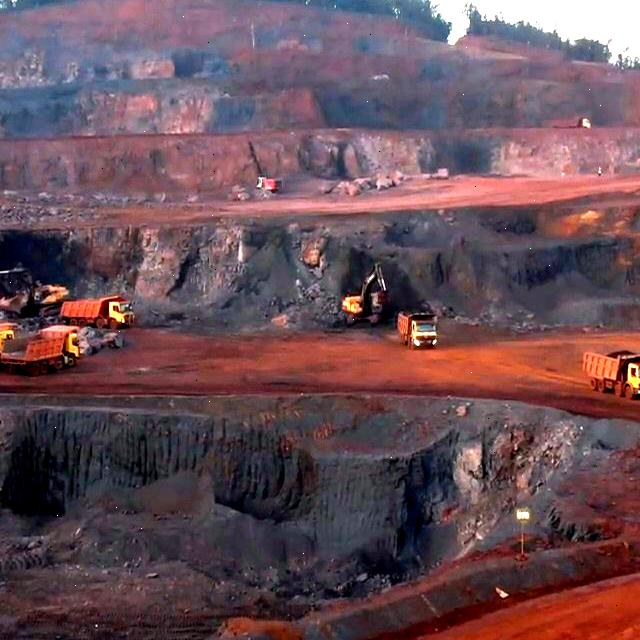Blast rig: (251, 174, 283, 192)
Dumper truck: (10, 331, 82, 373), (588, 350, 640, 397), (397, 311, 443, 346)
Excavator: (335, 290, 379, 325), (21, 281, 63, 314)
